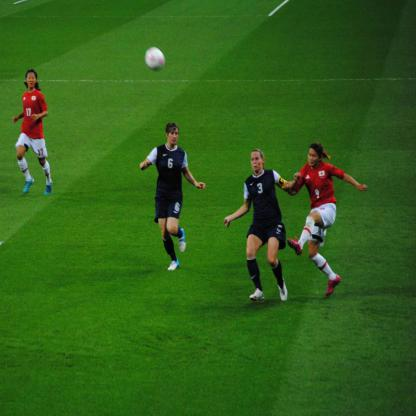face: (251, 153, 262, 172), (309, 149, 320, 166), (169, 130, 179, 145), (27, 74, 37, 89)
